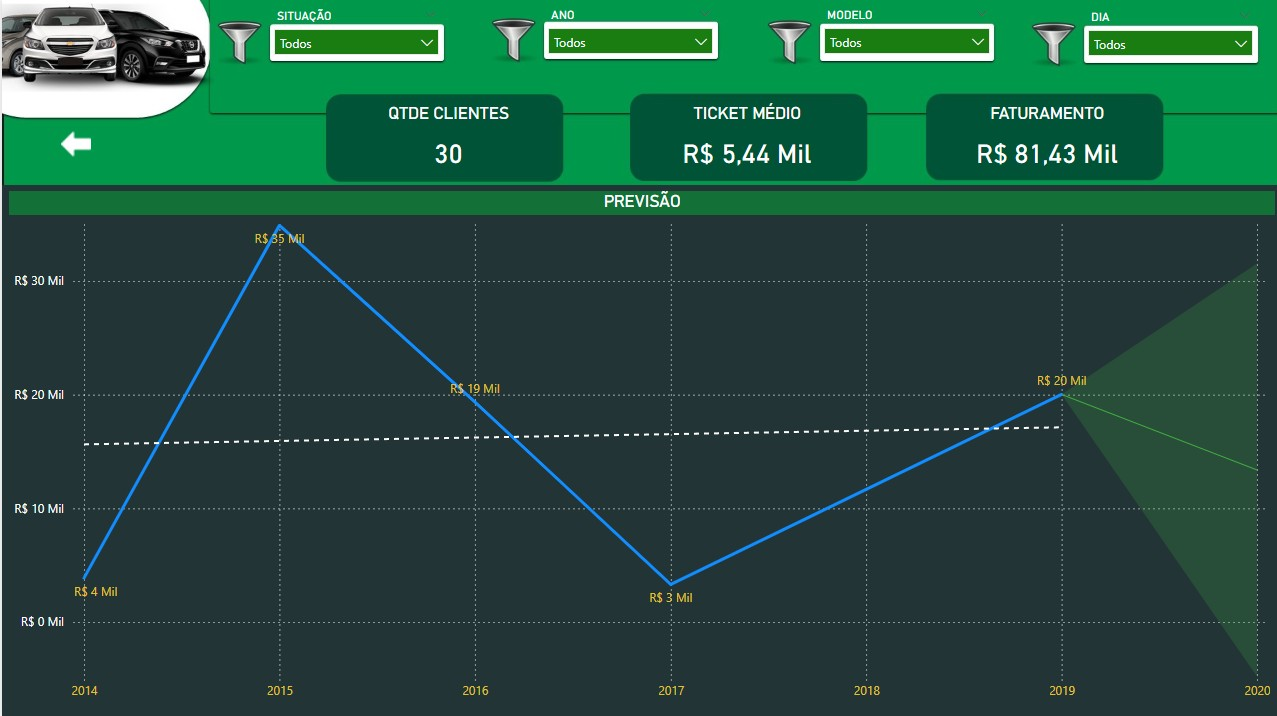

The dashboard page shown, as its layout file describes it:
{"tool":"powerbi","page":{"name":"PREVISÃO","canvas":[1280,720],"ordinal":3},"visuals":[{"type":"lineChart","title":"PREVISÃO","fields":{"Category":["tb_km.DATA.Variation.Hierarquia de datas.Ano","tb_km.DATA.Variation.Hierarquia de datas.Trimestre","tb_km.DATA.Variation.Hierarquia de datas.Mês","tb_km.DATA.Variation.Hierarquia de datas.Dia"],"Y":["Sum(tb_km.TT VENDA)"]},"box":[7.1,191.5,1266.2,518.7],"z":0},{"type":"slicer","fields":{"Values":["tb_km.SITUAÇÃO CADASTRAL"]},"box":[261.6,5.3,185.3,62.1],"z":1000},{"type":"slicer","fields":{"Values":["tb_km.Nome do Dia"]},"box":[1075.6,6.2,185.3,62.1],"z":2000},{"type":"slicer","fields":{"Values":["tb_km.Ano"]},"box":[535.6,3.5,185.3,62.1],"z":3000},{"type":"slicer","fields":{"Values":["tb_km.MODELO"]},"box":[812.2,4.4,185.3,62.1],"z":4000},{"type":"card","title":"QTDE CLIENTES","fields":{"Values":["Medidas.QTD CLIENTES"]},"box":[349.4,103.7,194.2,80.7],"z":5000},{"type":"card","title":"TICKET MÉDIO","fields":{"Values":["Medidas.TICKET MED SLR"]},"box":[648.2,103.7,194.2,80.7],"z":6000},{"type":"card","title":"FATURAMENTO","fields":{"Values":["Medidas.FAT"]},"box":[947.9,103.7,194.2,80.7],"z":7000},{"type":"image","box":[41.7,125,63.8,39.9],"z":7001},{"type":"actionButton","box":[23.1,125,100.2,39.9],"z":7002}]}

Visuals, with their boxes in screenshot pixels (x1, y1, x2, y2), scaled from the page's 1280x720 canvas onto the 1277x716 screenshot:
"PREVISÃO" lineChart: rect(7, 190, 1270, 706)
slicer - tb_km.SITUAÇÃO CADASTRAL: rect(261, 5, 446, 67)
slicer - tb_km.Nome do Dia: rect(1073, 6, 1258, 68)
slicer - tb_km.Ano: rect(534, 3, 719, 65)
slicer - tb_km.MODELO: rect(810, 4, 995, 66)
"QTDE CLIENTES" card: rect(349, 103, 542, 183)
"TICKET MÉDIO" card: rect(647, 103, 840, 183)
"FATURAMENTO" card: rect(946, 103, 1139, 183)
image: rect(42, 124, 105, 164)
actionButton: rect(23, 124, 123, 164)
